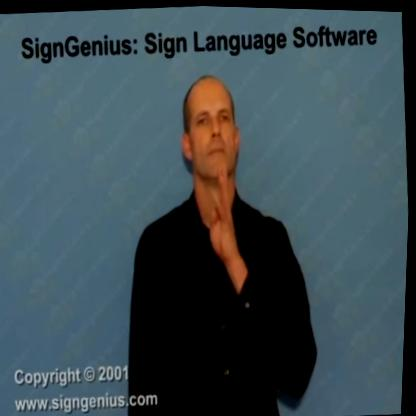Talk: (110, 67, 333, 416)
